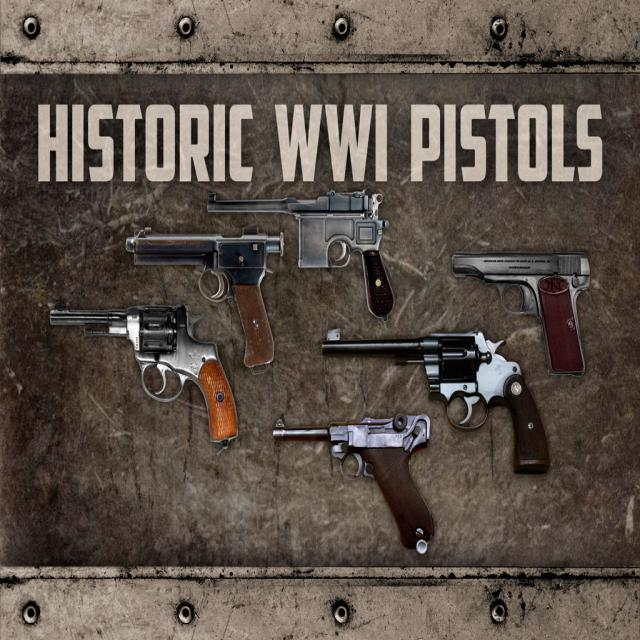HandGun: (322, 331, 550, 473), (49, 304, 238, 439), (207, 190, 394, 315), (273, 414, 434, 551), (126, 231, 281, 368), (452, 252, 591, 377)
